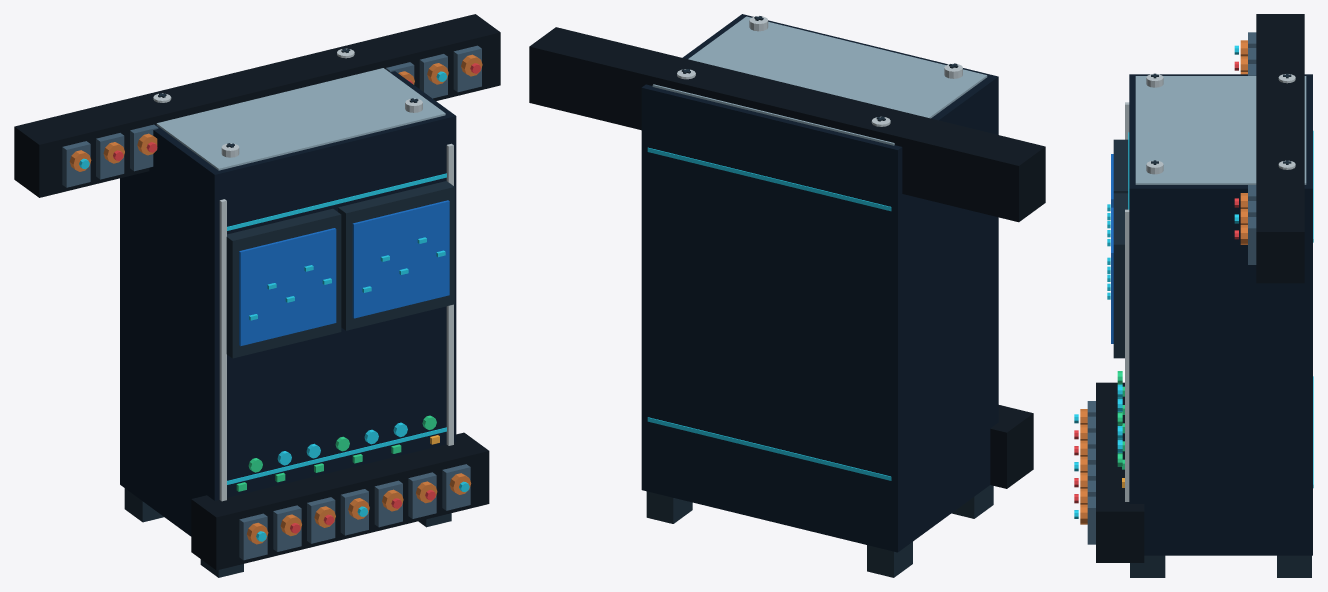
File: 51_L78_DielectricLeakageCurrentElectrometer.fbx
3 views of the same model, side by side, from view 1: azimuth 30°, elevation 25°; view 2: azimuth 150°, elevation 25°; view 3: azimuth 270°, elevation 25° (orthographic). The views are drawn at different scales.
Parts seen in each view (by area): view 1: DielectricLeakageCurrentElectrometer; view 2: DielectricLeakageCurrentElectrometer; view 3: DielectricLeakageCurrentElectrometer.
Part boxes in pixels (x1=…): DielectricLeakageCurrentElectrometer: x1=14, y1=14, x2=500, y2=577; DielectricLeakageCurrentElectrometer: x1=529, y1=14, x2=1045, y2=577; DielectricLeakageCurrentElectrometer: x1=1074, y1=14, x2=1313, y2=577.
Bounding box in the file's own units: 191 × 165 × 88.72.
